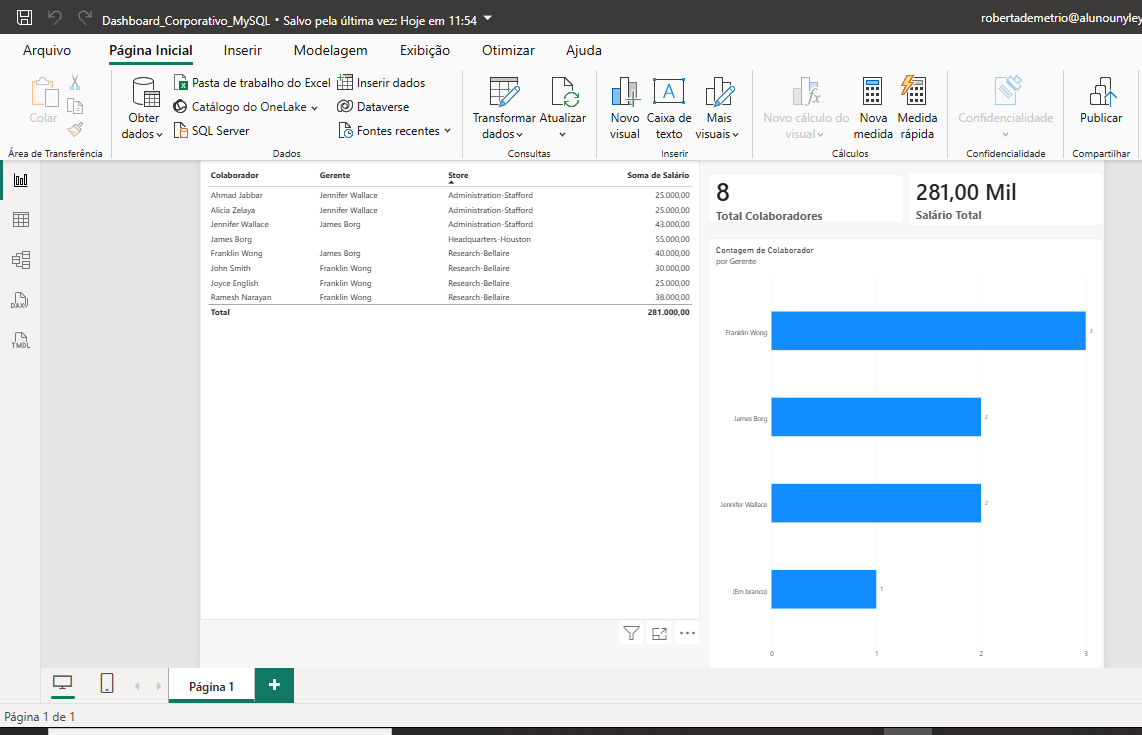

The dashboard page shown, as its layout file describes it:
{"tool":"powerbi","page":{"name":"Página 1","canvas":[1920,1080],"ordinal":0},"visuals":[{"type":"tableEx","fields":{"Values":["azure_company employee.Colaborador","azure_company employee.Gerente","departament.Store","Sum(azure_company employee.Salário)"]},"box":[0,0,1063.3,977.6],"z":0},{"type":"cardVisual","fields":{"Data":["Count(azure_company employee.Colaborador)"]},"box":[1080.9,30.2,415.7,103.3],"z":1},{"type":"cardVisual","fields":{"Data":["Sum(azure_company employee.Salário)"]},"box":[1504.3,25.2,415.7,115.9],"z":2},{"type":"barChart","fields":{"Category":["azure_company employee.Gerente"],"Y":["CountNonNull(azure_company employee.Colaborador)"]},"box":[1080.9,166.3,839.1,914.6],"z":3}]}

Visuals, with their boxes on the page's 1920x1080 design canvas (x1, y1, x2, y2). These are canvas units, not pixel positions in the 1142x735 screenshot, which may show the page scaled, cropped or inside an application window:
tableEx - azure_company employee.Colaborador x azure_company employee.Gerente: x1=0, y1=0, x2=1063, y2=978
cardVisual - Count(azure_company employee.Colaborador): x1=1081, y1=30, x2=1497, y2=134
cardVisual - Sum(azure_company employee.Salário): x1=1504, y1=25, x2=1920, y2=141
barChart - azure_company employee.Gerente x CountNonNull(azure_company employee.Colaborador): x1=1081, y1=166, x2=1920, y2=1081
